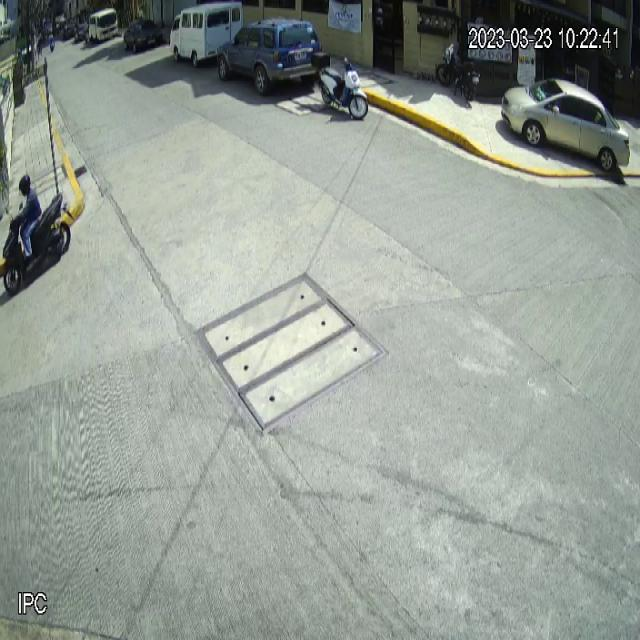Car: (501, 78, 631, 172), (216, 16, 322, 96)
Motorcycle: (4, 190, 75, 296), (311, 51, 368, 121)
Van: (169, 0, 243, 67)
